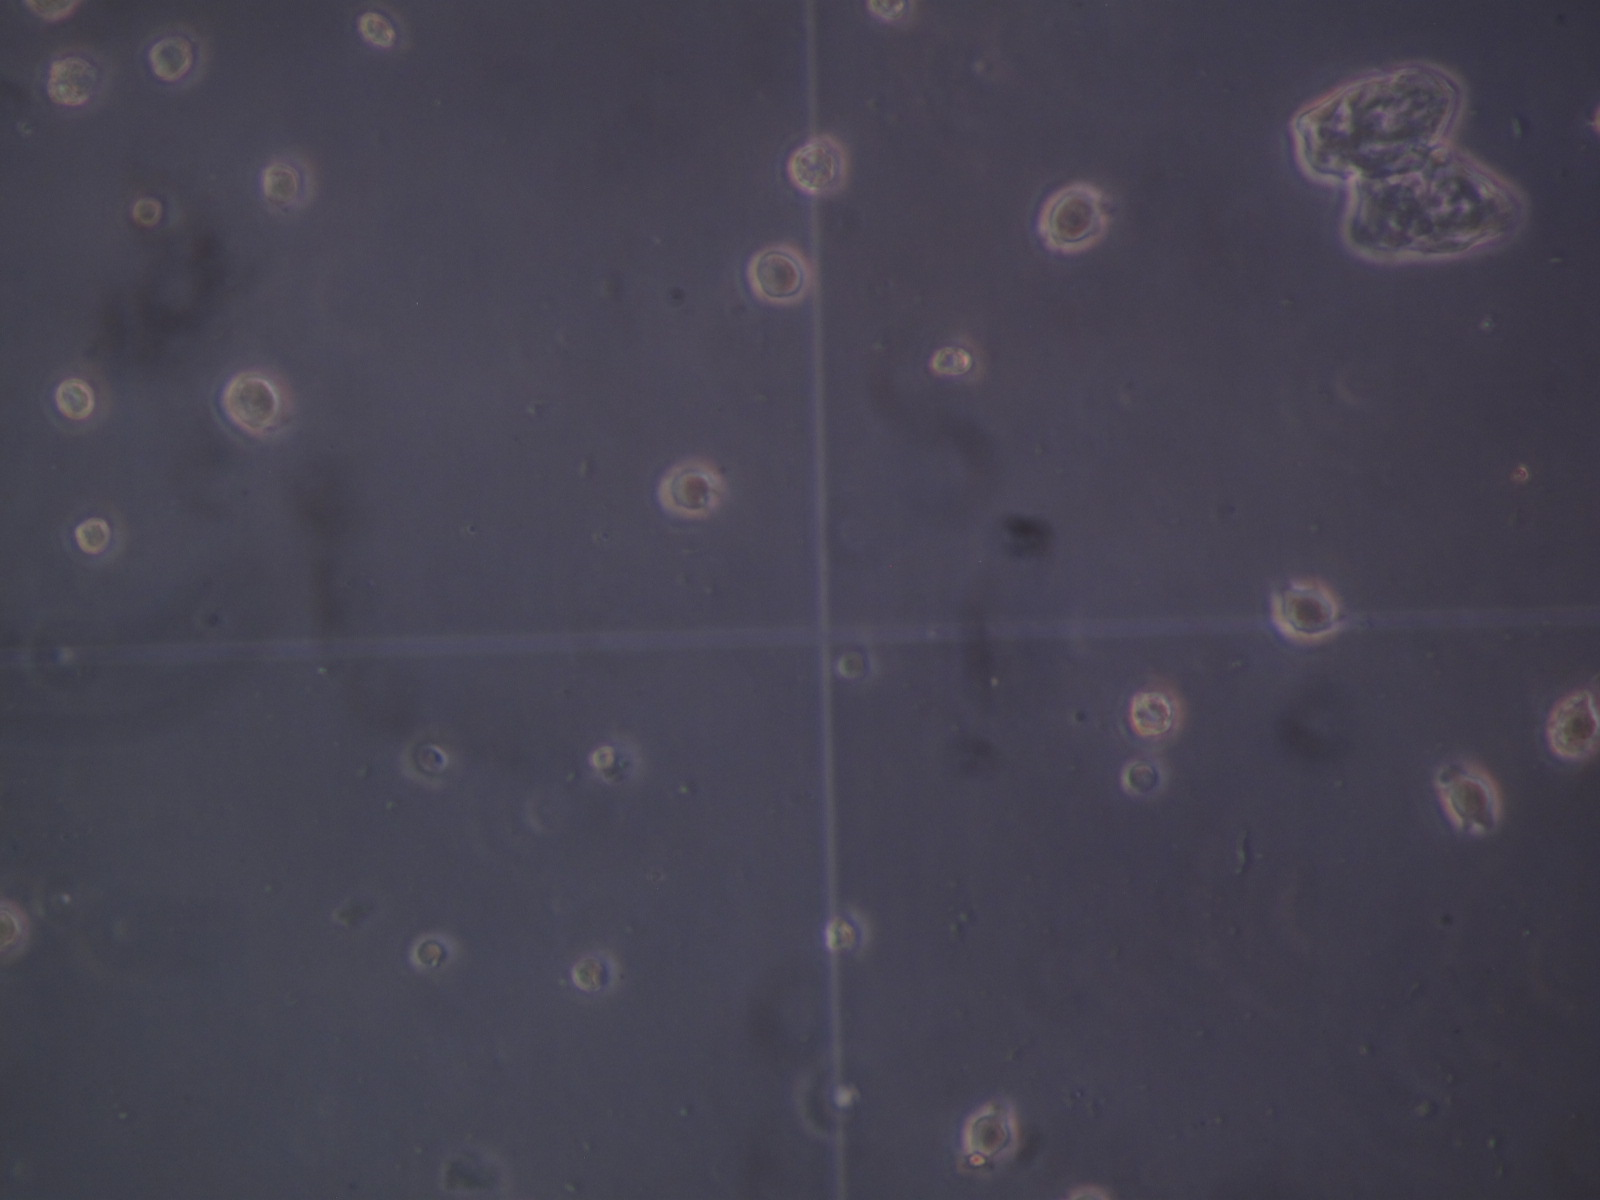hemo: (210, 362, 281, 447), (794, 1063, 863, 1143), (1036, 178, 1107, 253), (42, 362, 111, 434), (139, 24, 213, 89), (37, 47, 110, 112), (254, 141, 314, 218), (1272, 579, 1337, 643), (746, 245, 813, 304), (659, 463, 724, 522), (69, 500, 129, 563), (1441, 770, 1499, 834), (791, 134, 850, 192), (963, 1105, 1018, 1162), (354, 3, 411, 55), (1548, 698, 1597, 759), (930, 335, 989, 384), (401, 730, 449, 790), (1129, 689, 1182, 739), (129, 182, 180, 231), (824, 908, 872, 957), (571, 950, 617, 997), (1, 897, 31, 964), (409, 933, 462, 971), (591, 739, 639, 779), (1120, 759, 1162, 795), (25, 1, 86, 25)
